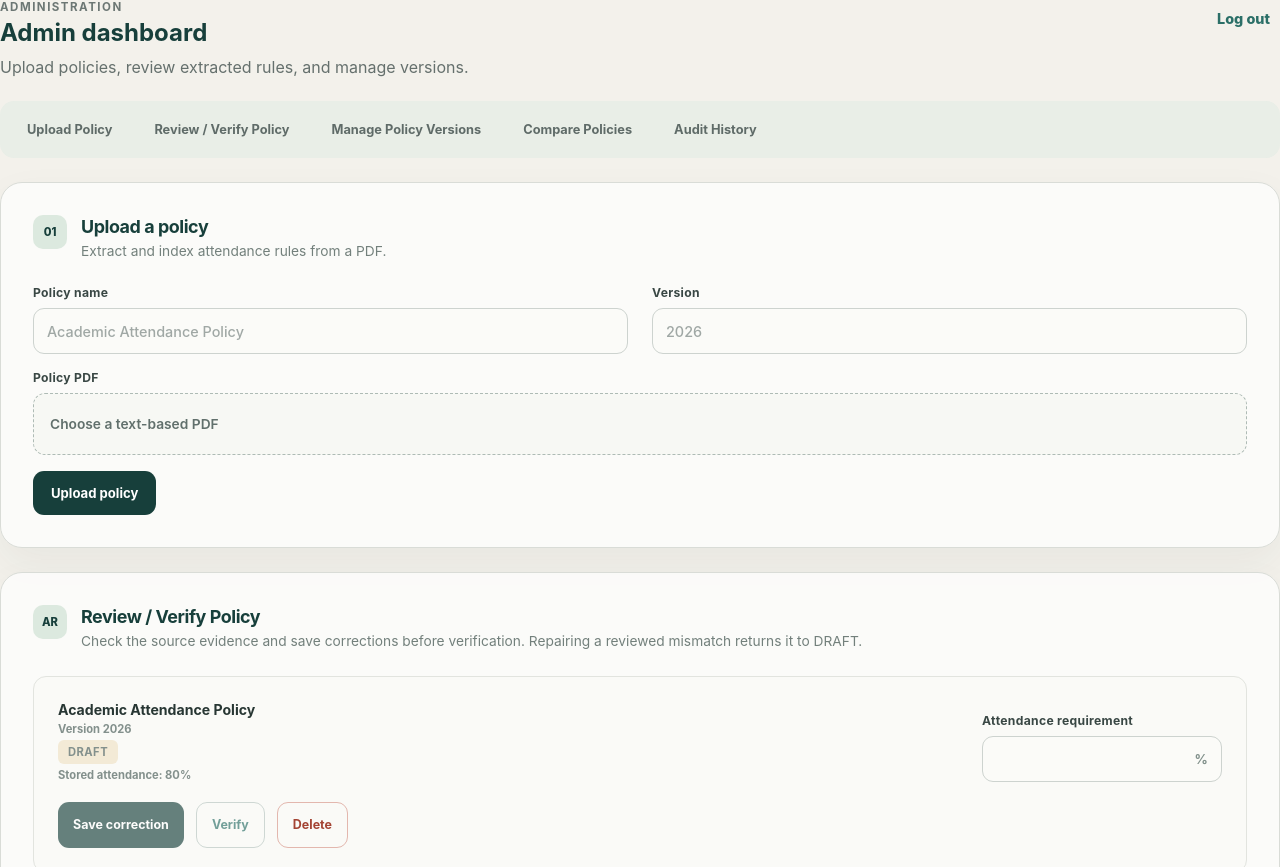
AdminPage delete button › shows an error message when deletion fails
The image size is (1280, 867).
Click the button "Delete".
click(312, 824)  # box [277,802,348,848]
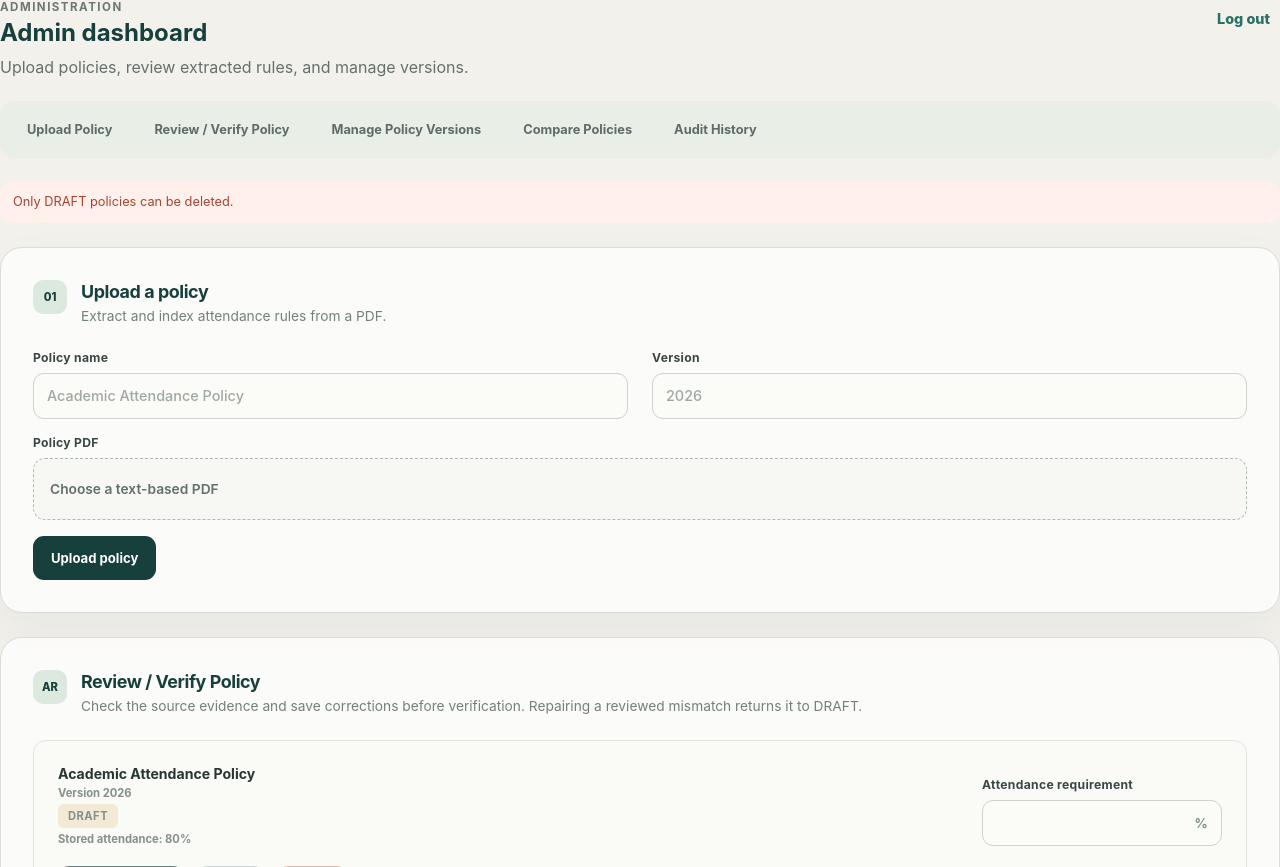
Expected: the text "Only DRAFT policies can be deleted." is shown, [0,182,1279,222]
